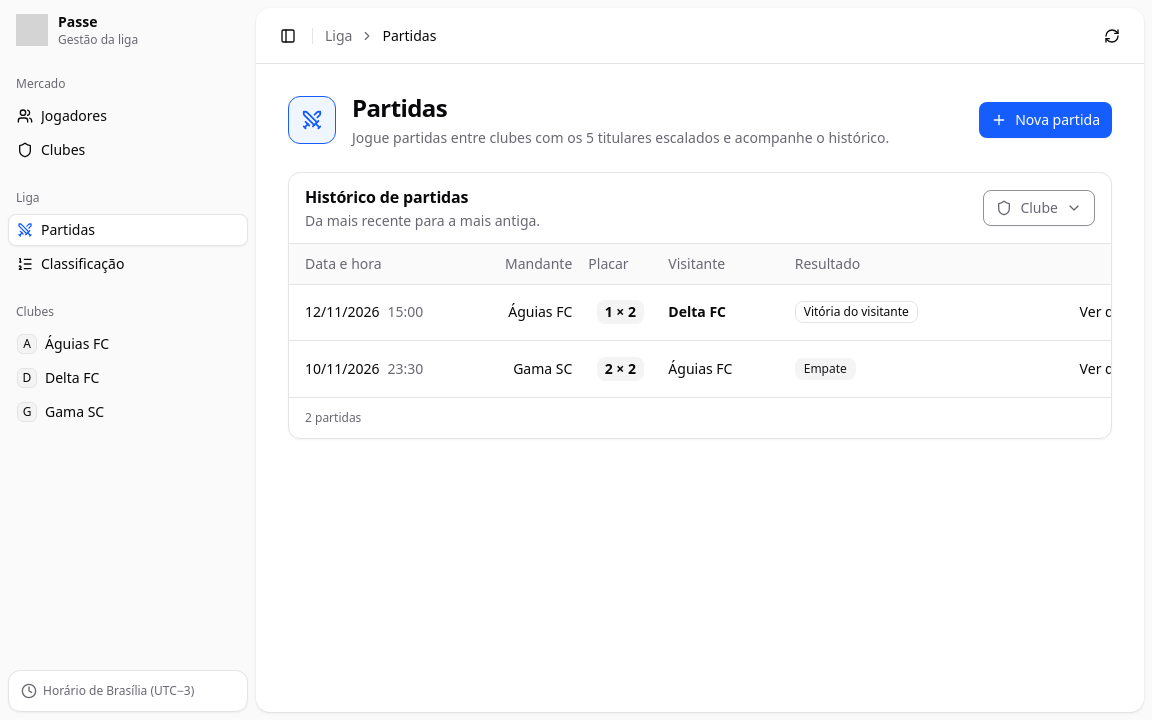
Scenario: Partidas (F13, F14) › nova partida: exige os dois clubes, diferentes, sem enviar
Click the button "Nova partida" at (1046, 120), box [979,102,1112,138]
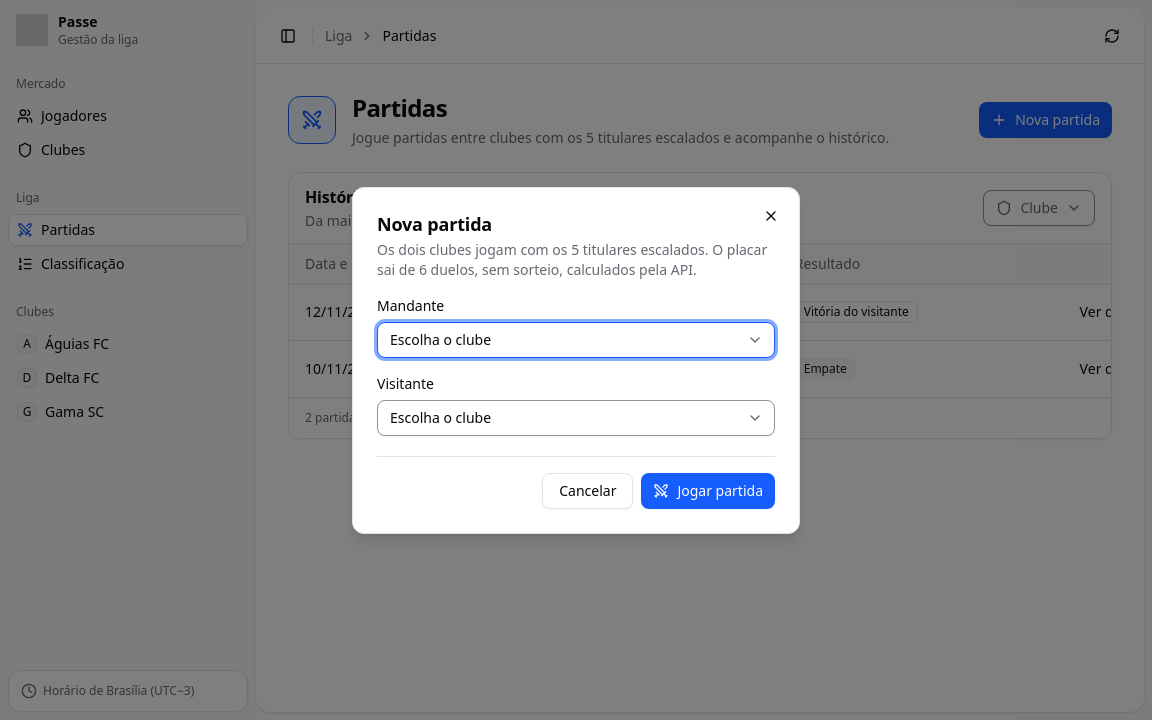
Click the button "Jogar partida" at (708, 490), box [641,472,775,508]
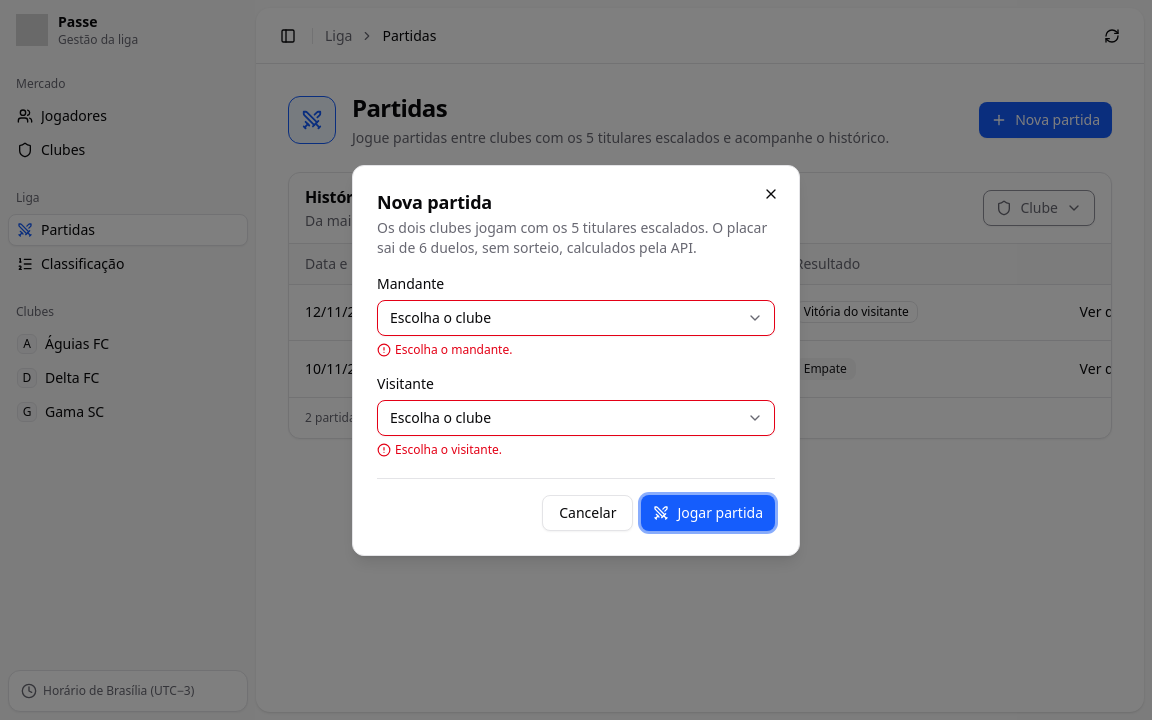
Result: the text "Escolha o mandante." is shown at [377,340,512,358]
Select "Águias FC (AGU)" in the dropdown labelled "Mandante" at (576, 318), box [377,300,775,336]
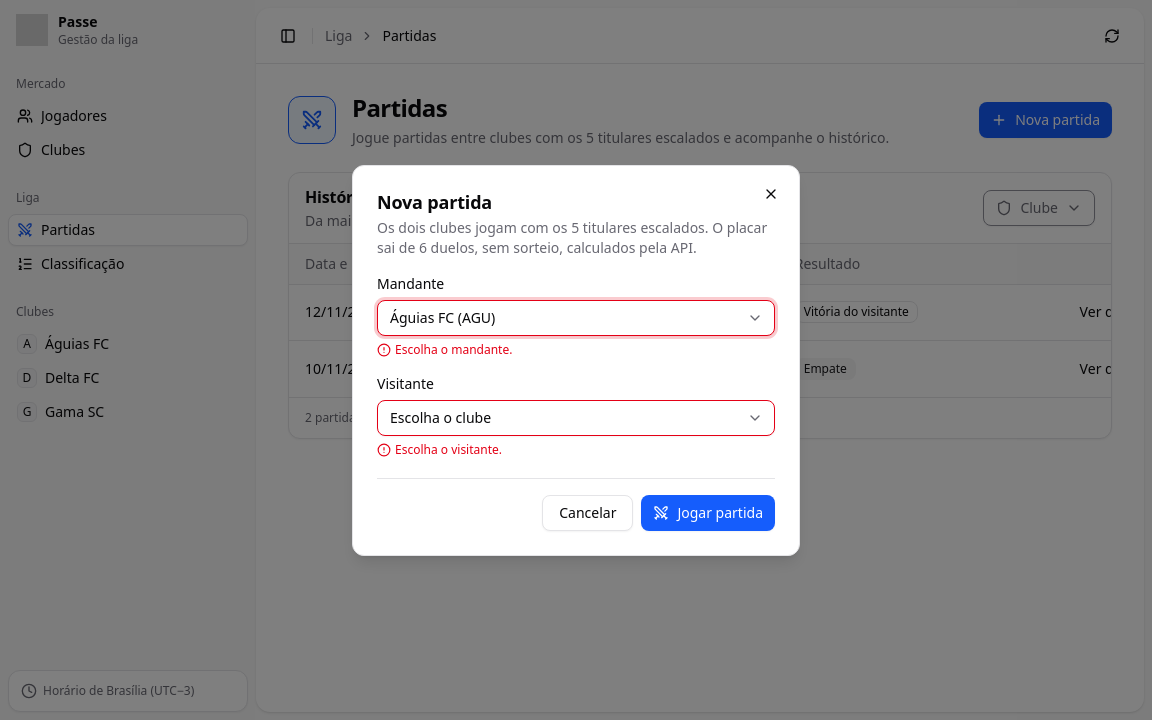
Select "Águias FC (AGU)" in the dropdown labelled "Visitante" at (576, 418), box [377,400,775,436]
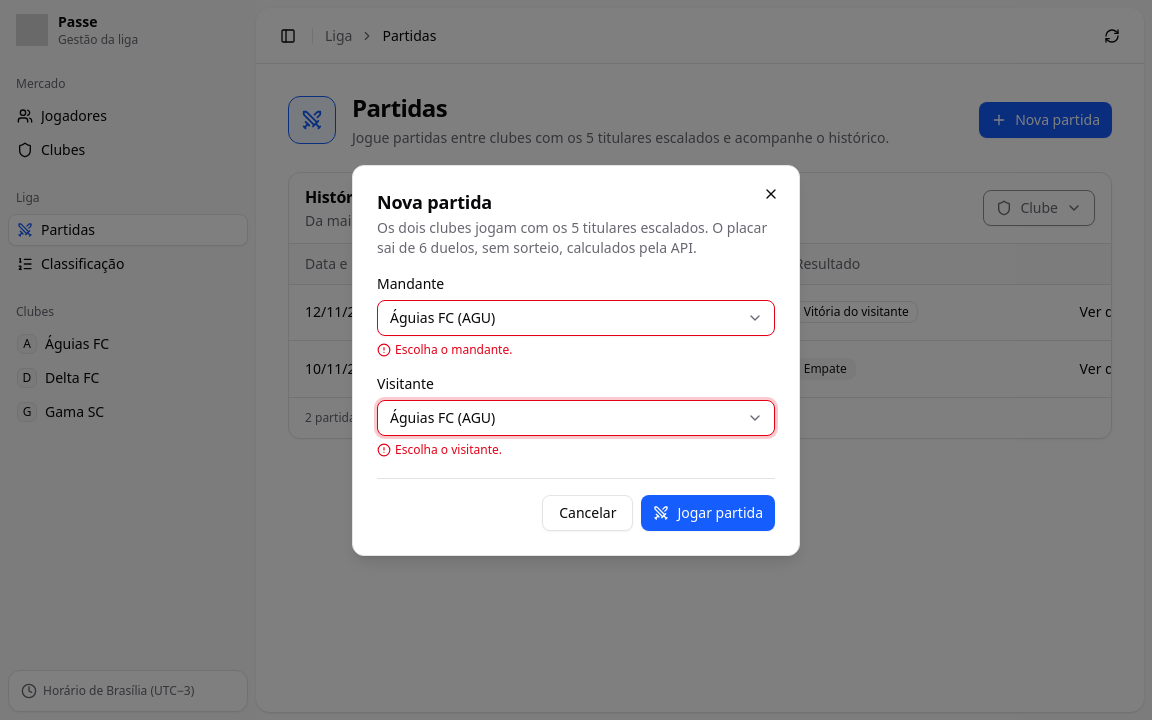
Click the button "Jogar partida" at (708, 512), box [641,494,775,530]
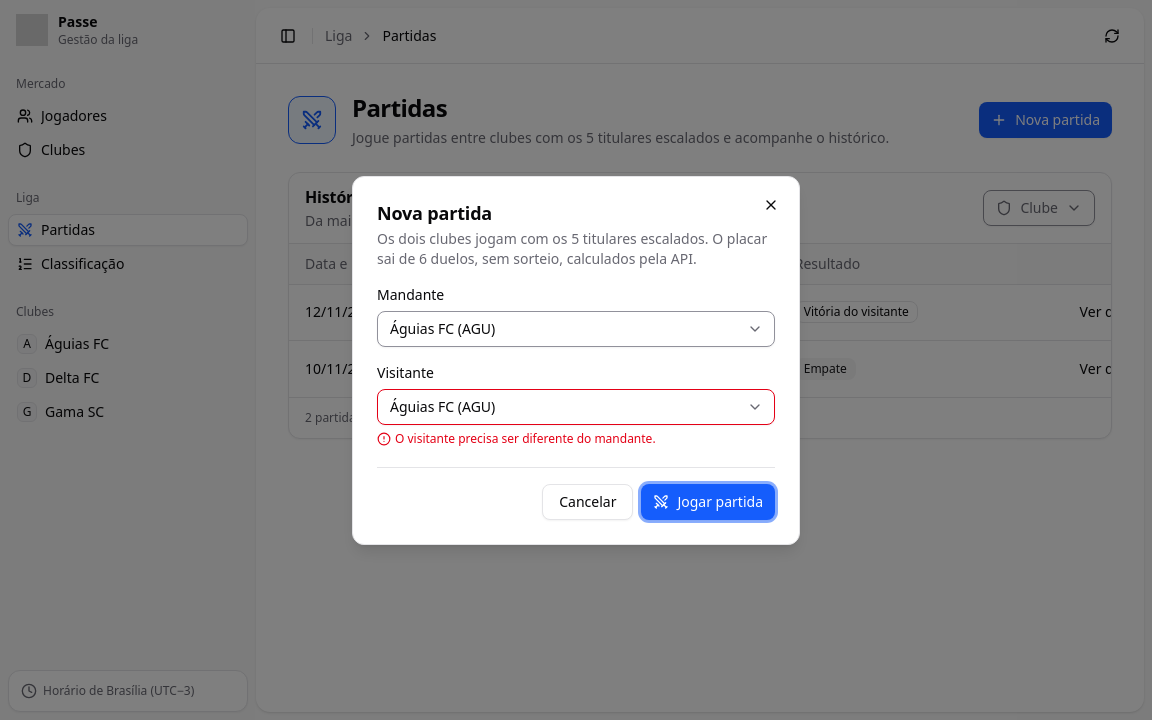
Result: the text "O visitante precisa ser diferente do mandante." is shown at [377,430,656,446]
